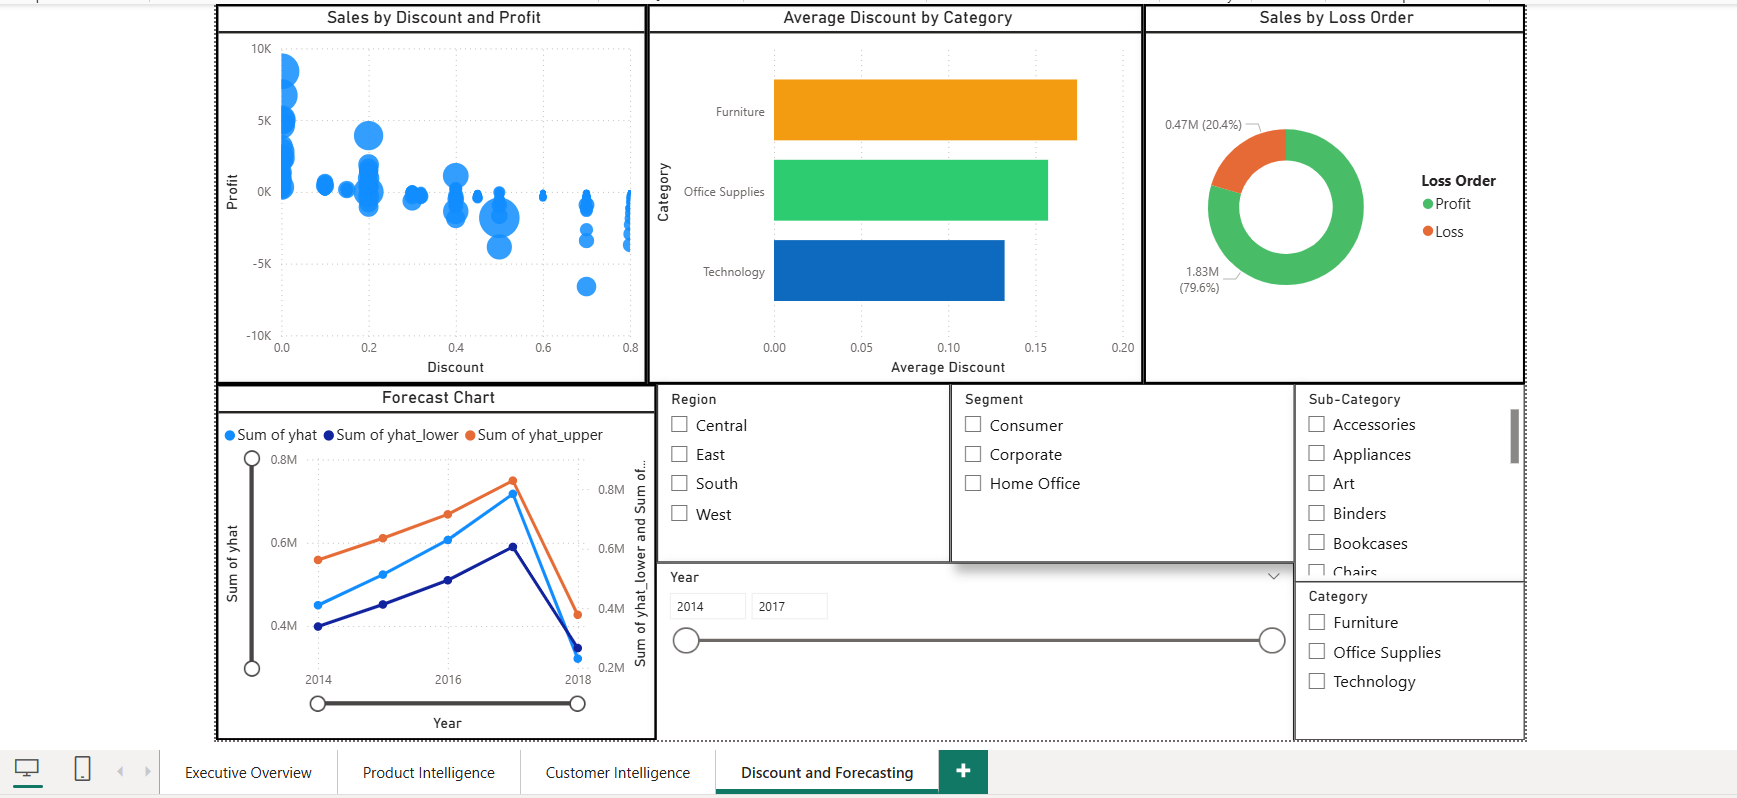

This screenshot's page, from the dashboard's own definition file:
{"tool":"powerbi","page":{"name":"Discount and Forecasting","canvas":[1280,720],"ordinal":3},"visuals":[{"type":"scatterChart","title":"Sales by Discount and Profit","fields":{"X":["Retail_Sales_Cleaned.Discount"],"Y":["Retail_Sales_Cleaned.Profit"],"Size":["Sum(Retail_Sales_Cleaned.Sales)"]},"box":[9.6,0,411.7,371.9],"z":0},{"type":"clusteredBarChart","fields":{"Y":["Avg(Retail_Sales_Cleaned.Discount)"],"Category":["Retail_Sales_Cleaned.Category"]},"box":[421.3,0,485.8,371.9],"z":1000},{"type":"donutChart","title":"Sales by Loss Order","fields":{"Category":["Retail_Sales_Cleaned.Loss Order"],"Y":["Sum(Retail_Sales_Cleaned.Sales)"]},"box":[907,0,373.2,371.9],"z":2000},{"type":"lineChart","title":"Forecast Chart","fields":{"Category":["Sales_Forecast.ds.Variation.Date Hierarchy.Year","Sales_Forecast.ds.Variation.Date Hierarchy.Quarter","Sales_Forecast.ds.Variation.Date Hierarchy.Month","Sales_Forecast.ds.Variation.Date Hierarchy.Day"],"Y":["Sum(Sales_Forecast.yhat)"],"Y2":["Sum(Sales_Forecast.yhat_lower)","Sum(Sales_Forecast.yhat_upper)"]},"box":[0,371.9,430.9,348.5],"z":3000},{"type":"slicer","fields":{"Values":["Retail_Sales_Cleaned.Region"]},"box":[432.2,371.9,286.8,174.3],"z":4000},{"type":"slicer","fields":{"Values":["Retail_Sales_Cleaned.Year"]},"box":[430.9,546.1,624.4,174.3],"z":5000},{"type":"slicer","fields":{"Values":["Retail_Sales_Cleaned.Segment"]},"box":[719,371.9,336.2,174.3],"z":6000},{"type":"slicer","fields":{"Values":["Retail_Sales_Cleaned.Sub-Category"]},"box":[1055.2,371.9,225,193.5],"z":7000},{"type":"slicer","fields":{"Values":["Retail_Sales_Cleaned.Category"]},"box":[1055.2,565.4,225,155.1],"z":8000}]}

Visuals, with their boxes on the page's 1280x720 design canvas (x1, y1, x2, y2). These are canvas units, not pixel positions in the 1737x798 screenshot, which may show the page scaled, cropped or inside an application window:
"Sales by Discount and Profit" scatterChart: x1=10 y1=0 x2=421 y2=372
clusteredBarChart - Avg(Retail_Sales_Cleaned.Discount) x Retail_Sales_Cleaned.Category: x1=421 y1=0 x2=907 y2=372
"Sales by Loss Order" donutChart: x1=907 y1=0 x2=1280 y2=372
"Forecast Chart" lineChart: x1=0 y1=372 x2=431 y2=720
slicer - Retail_Sales_Cleaned.Region: x1=432 y1=372 x2=719 y2=546
slicer - Retail_Sales_Cleaned.Year: x1=431 y1=546 x2=1055 y2=720
slicer - Retail_Sales_Cleaned.Segment: x1=719 y1=372 x2=1055 y2=546
slicer - Retail_Sales_Cleaned.Sub-Category: x1=1055 y1=372 x2=1280 y2=565
slicer - Retail_Sales_Cleaned.Category: x1=1055 y1=565 x2=1280 y2=720
